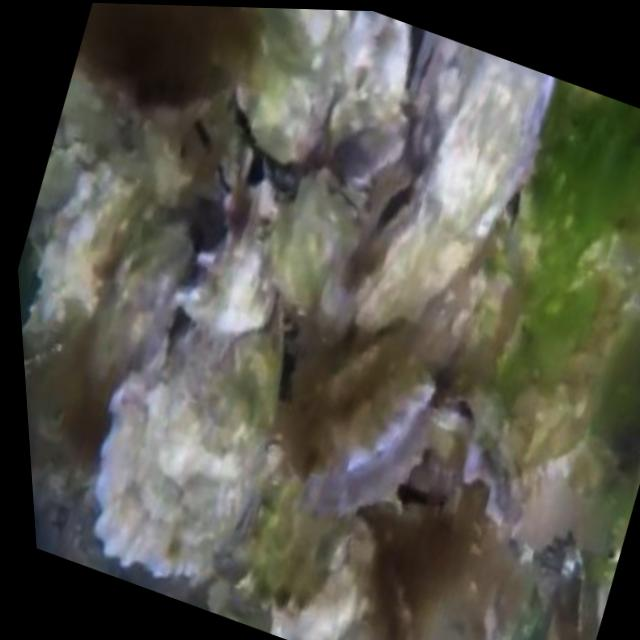Oyster-Closed: (269, 166, 372, 314), (331, 88, 401, 182), (186, 106, 245, 207)
Oyster-Indeterminate: (344, 35, 559, 334), (96, 297, 288, 581), (86, 232, 196, 410), (76, 3, 254, 109), (242, 8, 352, 161), (180, 183, 284, 331)
Oyster-Open: (286, 320, 438, 516), (435, 389, 525, 537), (548, 553, 601, 640)
